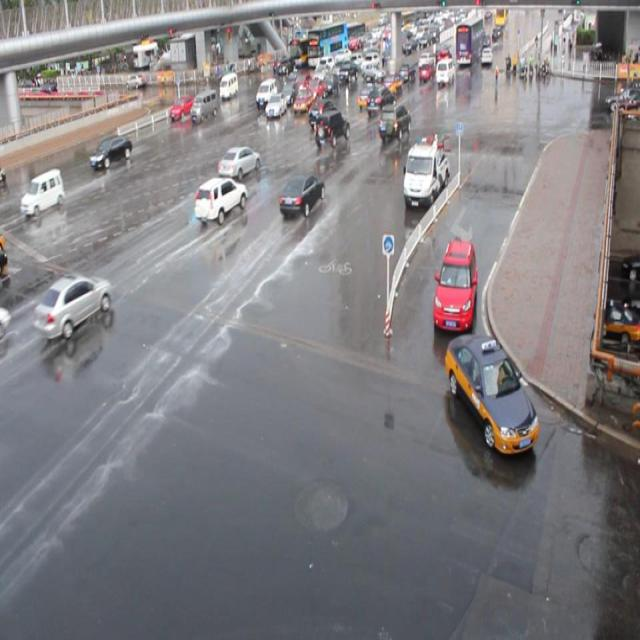bus: (401, 134, 447, 203)
car: (443, 332, 538, 454), (33, 272, 112, 338), (431, 239, 477, 329), (194, 175, 248, 224), (278, 171, 324, 217), (90, 134, 133, 169), (217, 145, 260, 180), (313, 111, 350, 147), (377, 104, 410, 140), (364, 84, 394, 115), (307, 98, 337, 126), (357, 82, 380, 108), (170, 95, 195, 118), (264, 90, 286, 115), (292, 86, 312, 110), (279, 78, 298, 101), (305, 75, 324, 98), (292, 70, 310, 91)
truck: (20, 166, 65, 216), (189, 88, 218, 122), (255, 78, 278, 106), (219, 72, 238, 97)
